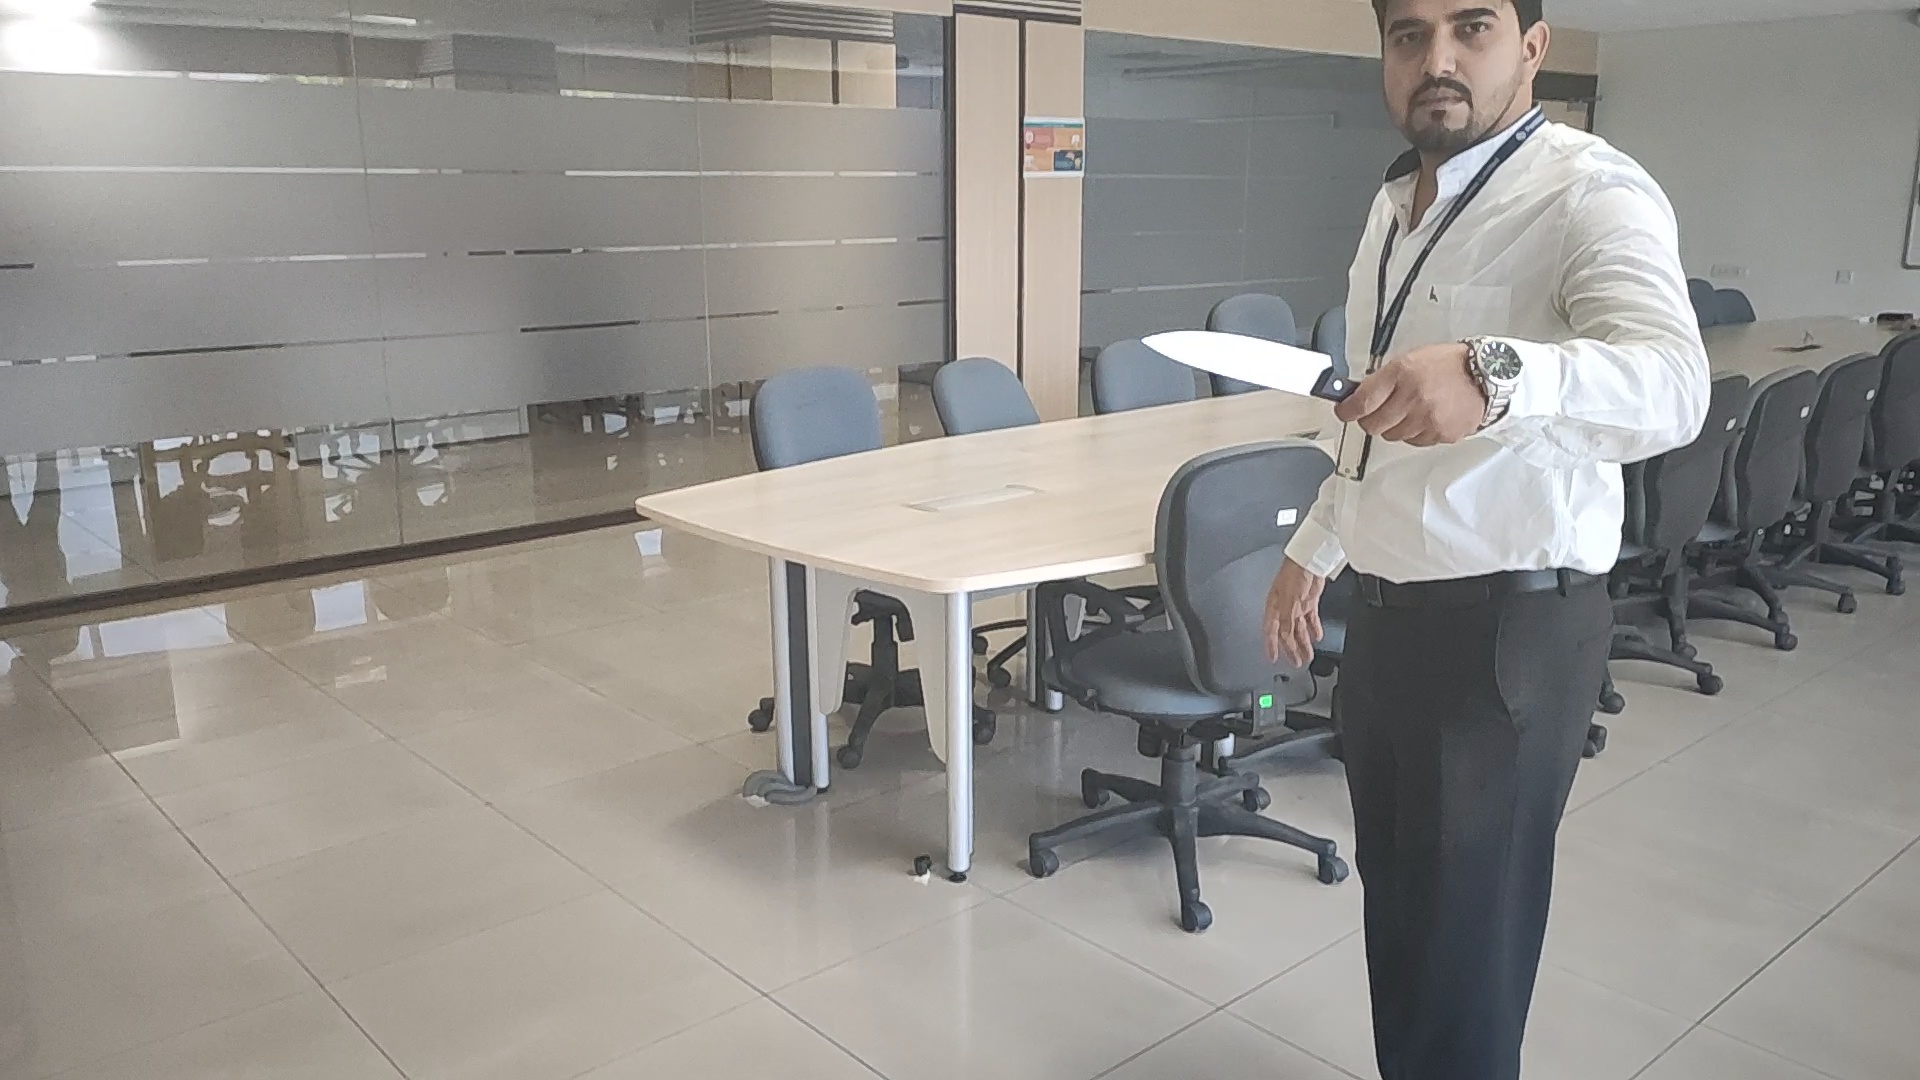knife: (1139, 326, 1358, 401)
